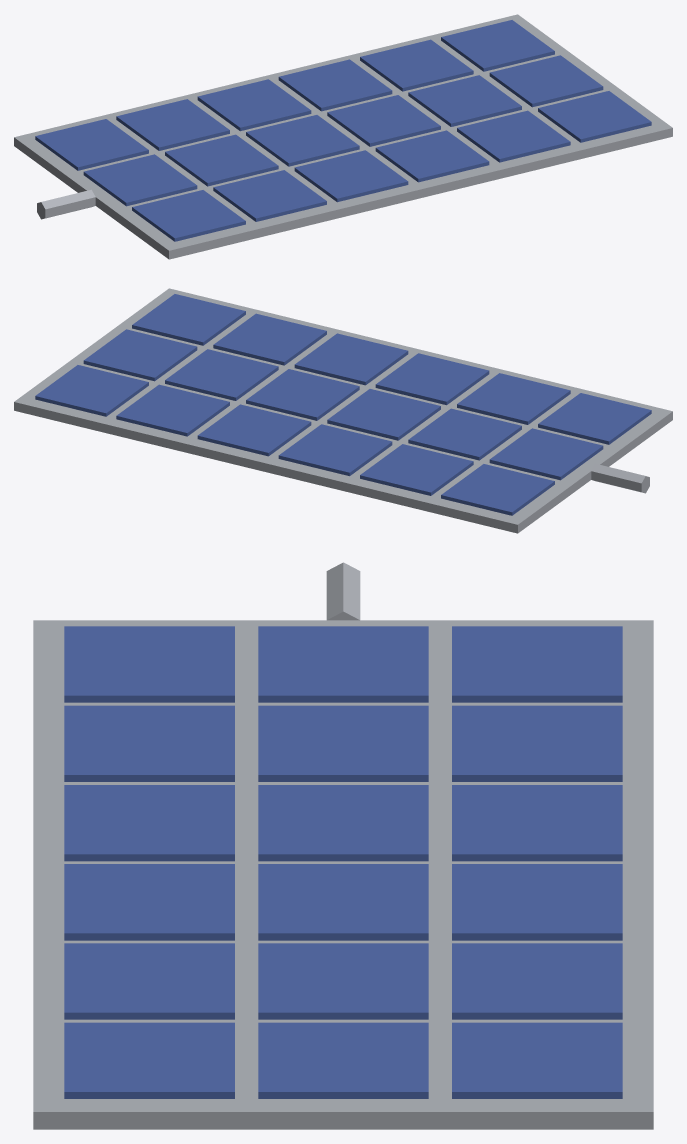
The model's file is solar_large.glb.
The picture shows the model from 3 angles, top to bottom: view 1: azimuth 30°, elevation 25°; view 2: azimuth 150°, elevation 25°; view 3: azimuth 270°, elevation 25°; orthographic projection. The views are drawn at different scales.
Visible parts, largest first — view 1: solar_large; view 2: solar_large; view 3: solar_large.
Part boxes in pixels (left/top/right/bottom): solar_large: left=14, top=14, right=672, bottom=259; solar_large: left=14, top=288, right=672, bottom=533; solar_large: left=33, top=562, right=653, bottom=1129.
Size of the model in its own units: 3.3 by 0.1 by 1.6.
